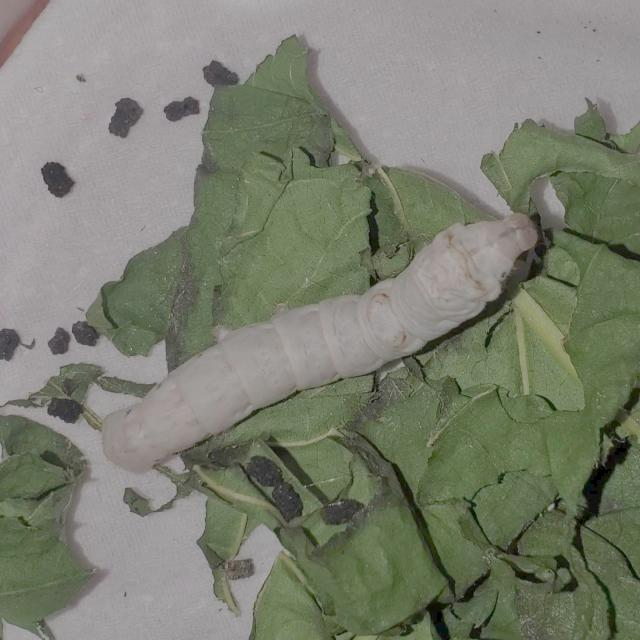Healthy: (82, 187, 567, 491)
